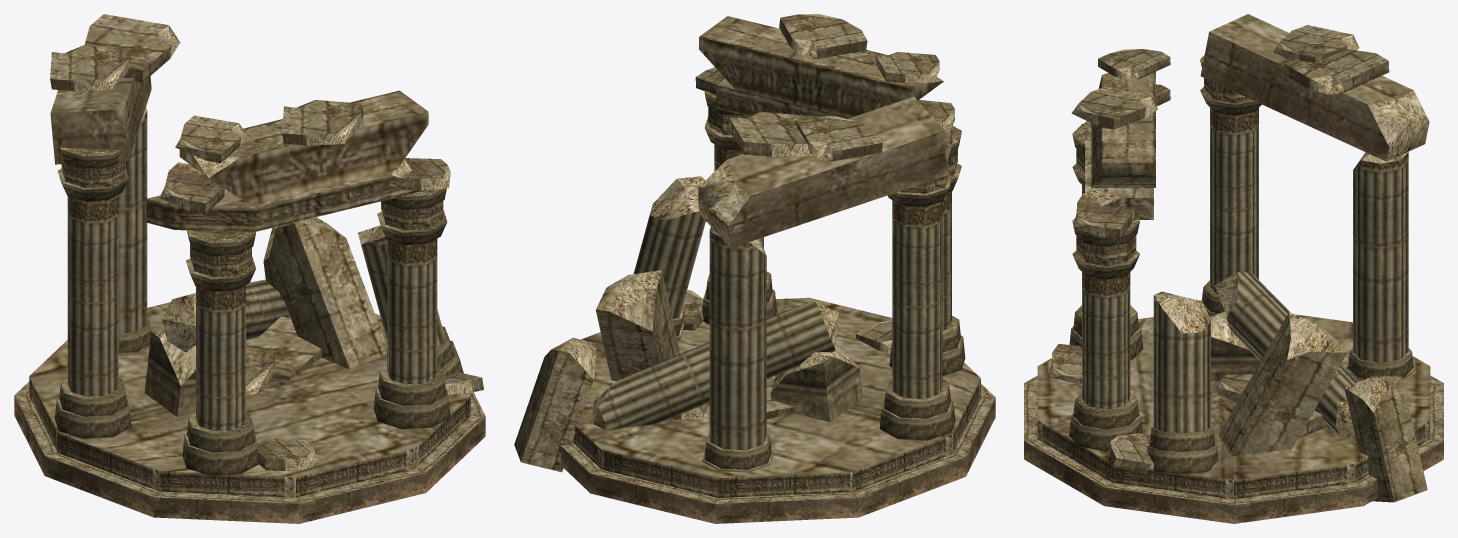
3 renders of one model, left to right at view 1: azimuth 30°, elevation 25°; view 2: azimuth 150°, elevation 25°; view 3: azimuth 270°, elevation 25°, orthographic. The views are drawn at different scales.
Parts seen in each view (by area): view 1: a28; view 2: a28; view 3: a28.
Part boxes in pixels (x1,y1,x2,y2): a28: (14,14,485,523); a28: (514,14,995,523); a28: (1024,14,1443,523).
Size of the model in its own units: 1403 by 1224 by 1335.
